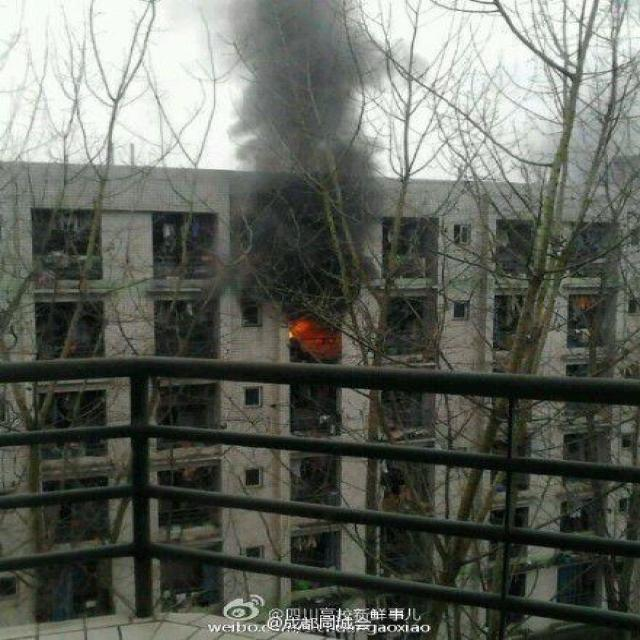fire: (284, 316, 330, 347)
smoke: (211, 0, 423, 311)
